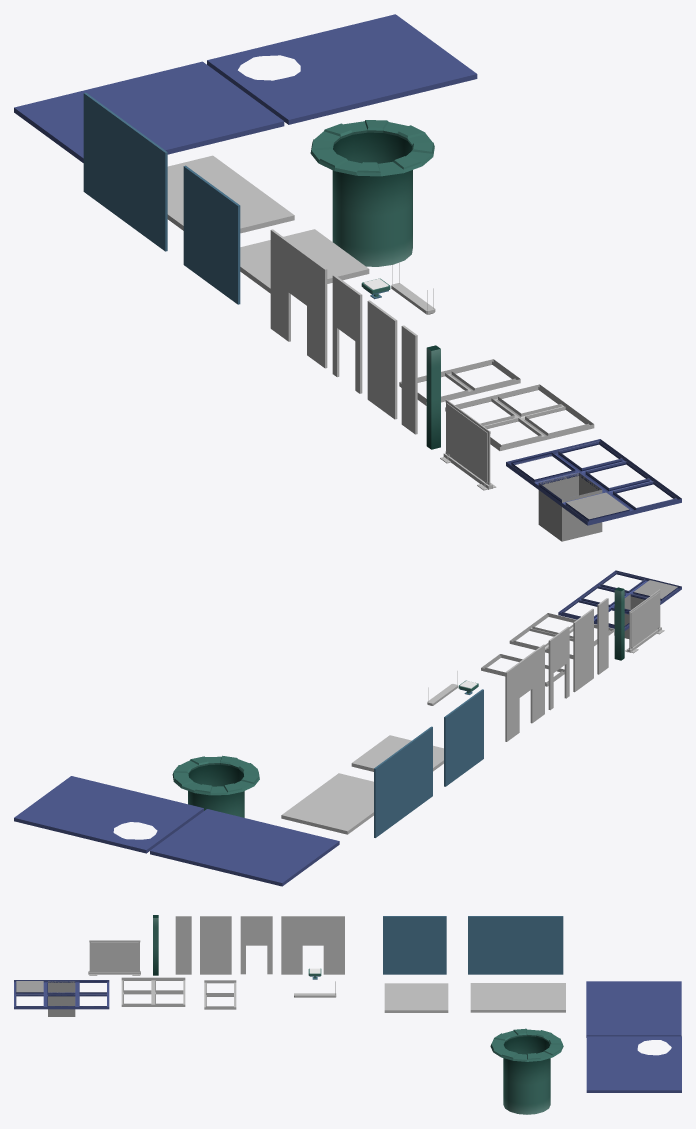
File: Technical laboratory designer-V1_Room.FBX
3 renders of one model, top to bottom at view 1: azimuth 30°, elevation 25°; view 2: azimuth 150°, elevation 25°; view 3: azimuth 270°, elevation 25°, orthographic. The views are drawn at different scales.
Parts seen in each view (by area): view 1: floor_6-7, floor_6-6, FirePit9, Wall_4-6, Wall_4-4, doorway_4-4, floor_4-6, ceiling_2-6, floor_4-4, Wall_2-4, Portable_wall, pasted__CeilingPanel (+6 smaller); view 2: floor_6-6, floor_6-7, Wall_4-6, FirePit9, floor_4-6, Wall_4-4, doorway_4-4, Wall_2-4, Portable_wall, ceiling_2-6, doorway_2-4, floor_4-4 (+3 smaller); view 3: Wall_4-6, floor_6-6, floor_6-7, FirePit9, Wall_4-4, doorway_4-4, floor_4-6, floor_4-4, Wall_2-4, Portable_wall, ceiling_2-6, doorway_2-4 (+6 smaller).
Boxes of the visible parts, x1,y1,x2,y2 form: floor_6-7: [207, 14, 477, 124]; floor_6-6: [14, 61, 284, 162]; FirePit9: [310, 120, 434, 266]; Wall_4-6: [83, 92, 167, 251]; Wall_4-4: [183, 165, 240, 304]; doorway_4-4: [270, 229, 327, 368]; floor_4-6: [167, 155, 294, 233]; ceiling_2-6: [506, 439, 681, 525]; floor_4-4: [240, 229, 369, 293]; Wall_2-4: [367, 300, 397, 419]; Portable_wall: [440, 399, 496, 490]; pasted__CeilingPanel: [538, 472, 602, 541]; floor_6-6: [150, 809, 339, 886]; floor_6-7: [14, 776, 203, 853]; Wall_4-6: [374, 726, 432, 837]; FirePit9: [172, 755, 259, 817]; floor_4-6: [281, 773, 373, 834]; Wall_4-4: [444, 689, 483, 786]; doorway_4-4: [505, 644, 544, 741]; Wall_2-4: [573, 608, 593, 692]; Portable_wall: [625, 589, 664, 653]; ceiling_2-6: [558, 570, 681, 630]; doorway_2-4: [548, 626, 569, 710]; floor_4-4: [351, 735, 443, 771]; Wall_4-6: [468, 916, 563, 974]; floor_6-6: [586, 981, 681, 1037]; floor_6-7: [586, 1036, 681, 1092]; FirePit9: [490, 1028, 563, 1114]; Wall_4-4: [383, 916, 446, 974]; doorway_4-4: [281, 916, 344, 974]; floor_4-6: [470, 983, 565, 1012]; floor_4-4: [384, 983, 448, 1012]; Wall_2-4: [200, 916, 231, 974]; Portable_wall: [88, 940, 140, 975]; ceiling_2-6: [14, 980, 109, 1009]; doorway_2-4: [240, 916, 272, 974].
Size of the model in its own units: 1777 by 799 by 4199.
